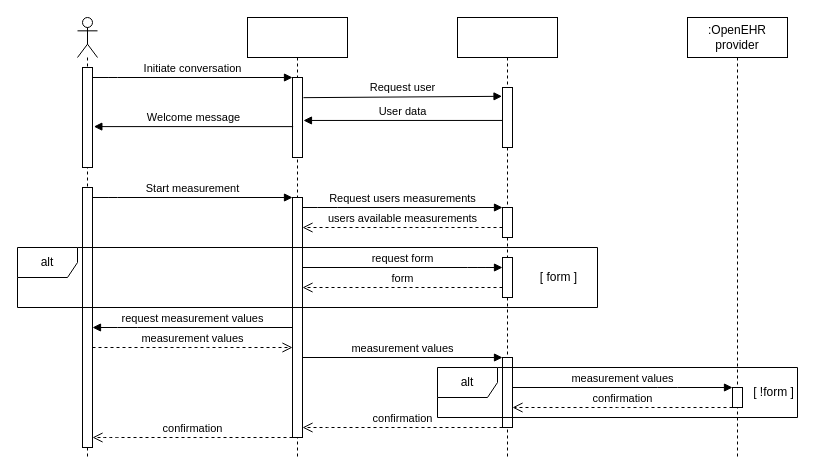
The diagram is 818 pixels wide and 475 high, and some of its shapes have lost their labels. The shapes that lost their labels are listed below. From the top down, each one's box as (x1, y1, x2, y2) in pixels, then its label:
(246, 16, 348, 458): :Bot server
(456, 16, 558, 458): :(flask) server
